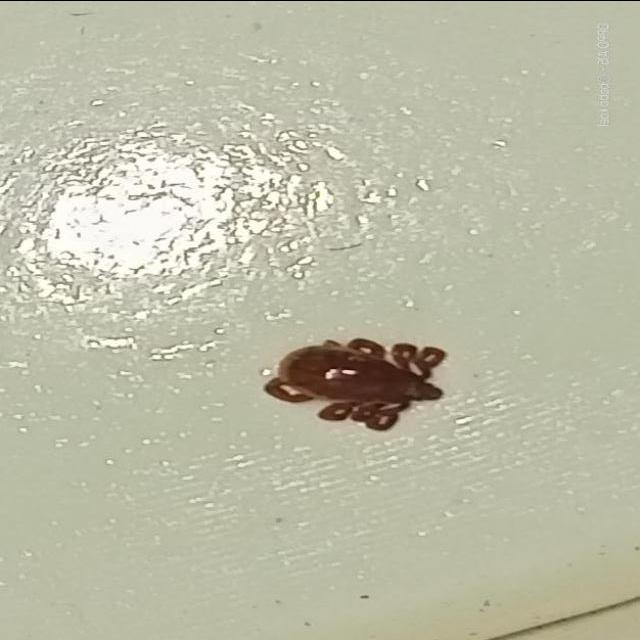Rhipicephalus Sanguineus-M: (267, 336, 449, 432)
